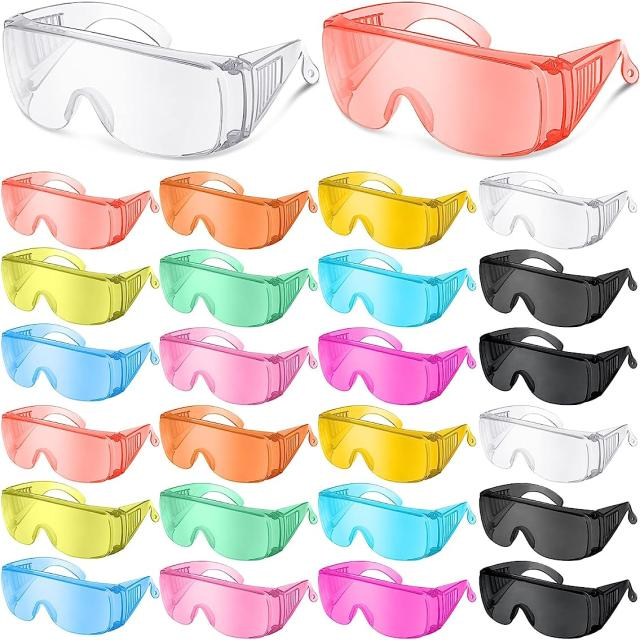goggles: (325, 0, 640, 142), (0, 20, 323, 143), (7, 146, 166, 253), (165, 158, 320, 238), (9, 247, 162, 324), (478, 331, 634, 406), (300, 339, 472, 406), (476, 177, 623, 252), (150, 338, 306, 406), (6, 480, 148, 554), (461, 418, 635, 478), (313, 254, 459, 323), (10, 554, 146, 628), (314, 484, 467, 549), (318, 558, 467, 624), (476, 481, 629, 544), (156, 258, 312, 318), (2, 326, 148, 390), (168, 483, 309, 548), (316, 418, 467, 477), (161, 566, 300, 630), (326, 170, 456, 238), (468, 276, 638, 326), (10, 418, 152, 474), (154, 419, 315, 468), (485, 566, 618, 621)
